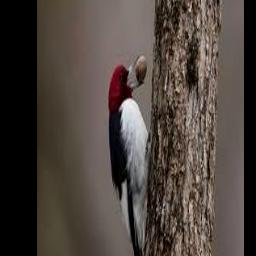Woodpecker: (108, 54, 150, 256)
